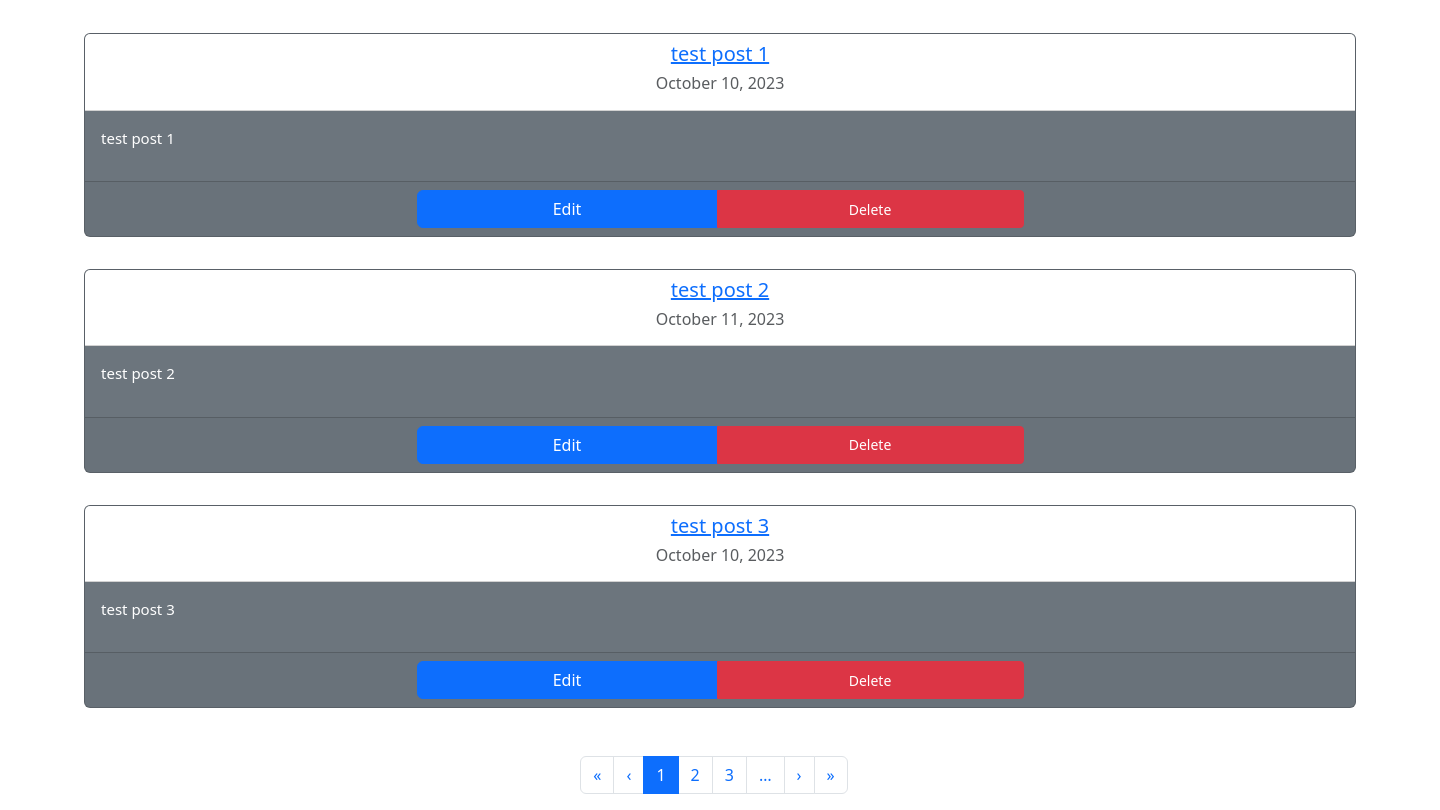
Test case: MyActvityPage test › 30 posts rendered
(page scrolled)
Expected: the button "2" is shown, [678,756,713,794]
Expected: the button "3" is shown, [712,756,747,794]
Click the button named "Last": x=831, y=776 [814,756,848,794]
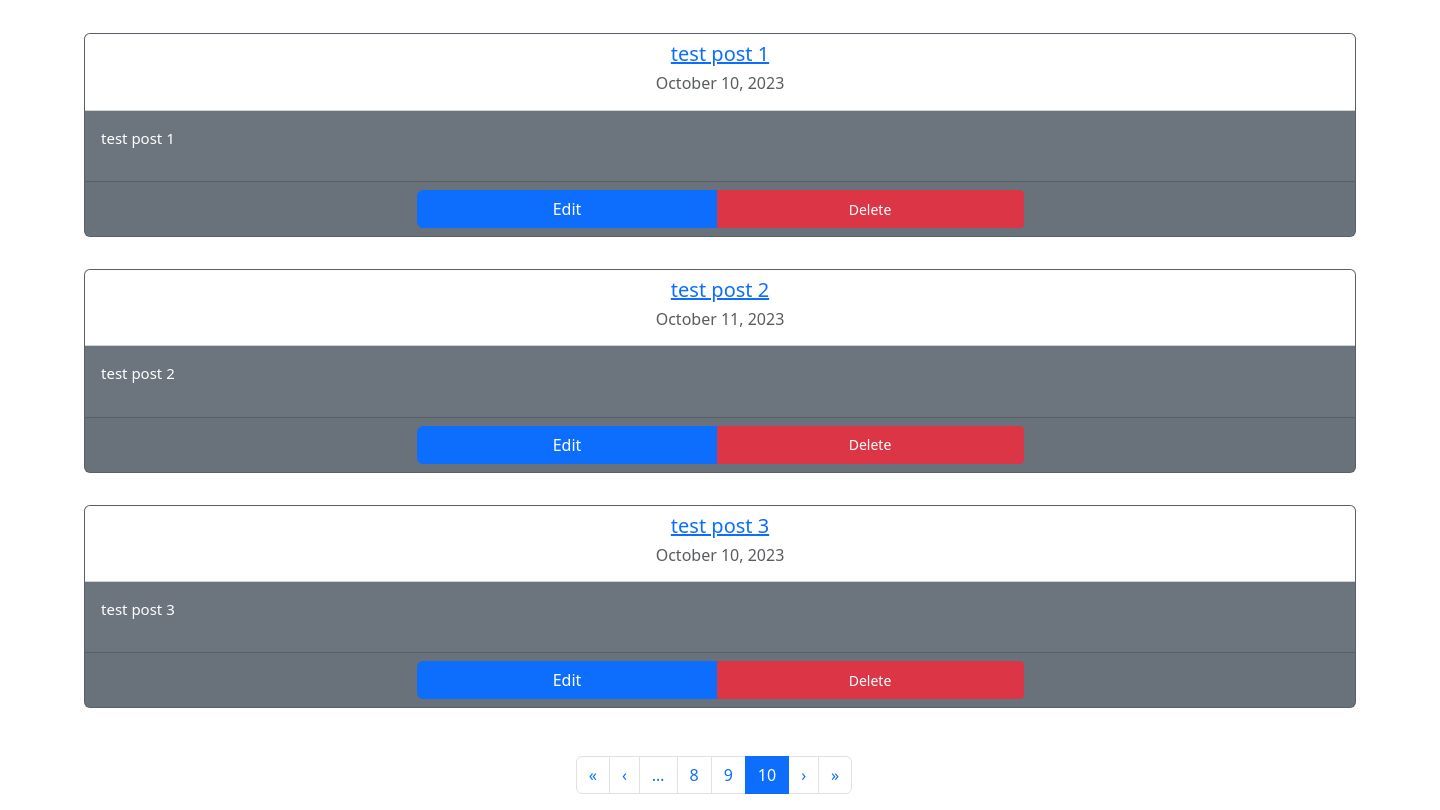
Expected: the element with test id "page: 10" is shown, [745,756,789,794]
Expected: the button with test id "page: 9" is shown, [711,756,746,794]
Expected: the button with test id "page: 8" is shown, [676,756,712,794]
